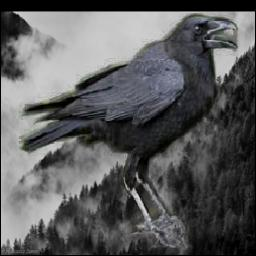Crow: (20, 13, 239, 247)
